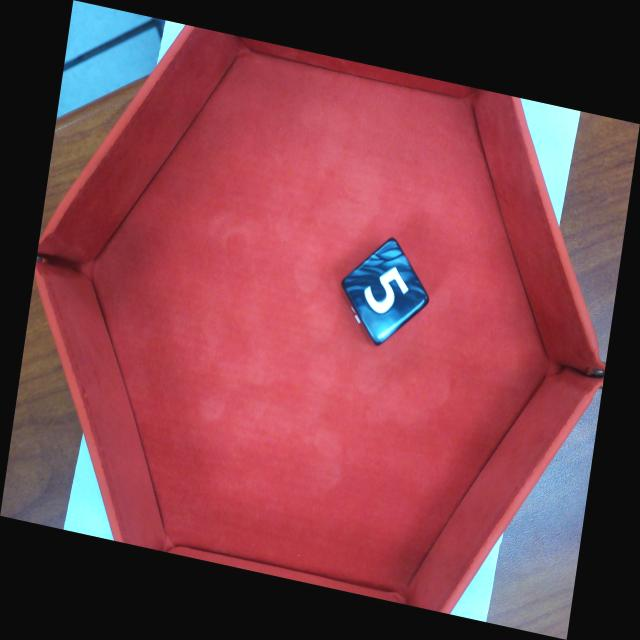dice: (349, 241, 423, 335)
